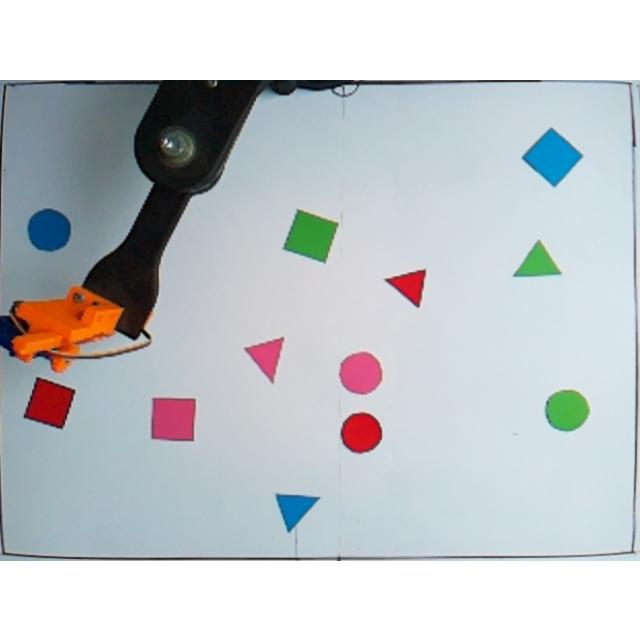blueCircle: (26, 205, 72, 252)
blueSquare: (520, 124, 584, 186)
blueTriangle: (274, 488, 320, 534)
greenCircle: (544, 387, 590, 431)
greenSquare: (281, 206, 341, 264)
greenTriangle: (510, 236, 566, 282)
pinkCircle: (338, 348, 384, 394)
pinkSquare: (150, 393, 198, 442)
pinkTriangle: (243, 334, 287, 384)
redCircle: (340, 410, 384, 454)
redSquare: (23, 374, 76, 430)
redTriangle: (384, 266, 428, 308)
